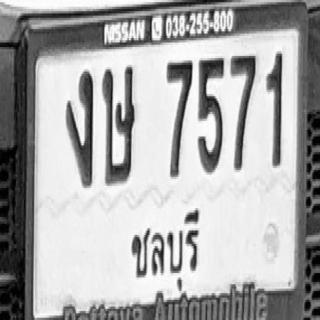A07: (66, 71, 93, 187)
A39: (102, 65, 135, 184)
N01: (266, 50, 283, 167)
N05: (198, 56, 224, 172)
N07: (166, 58, 193, 177), (230, 54, 256, 170)
P13: (126, 201, 202, 295)
